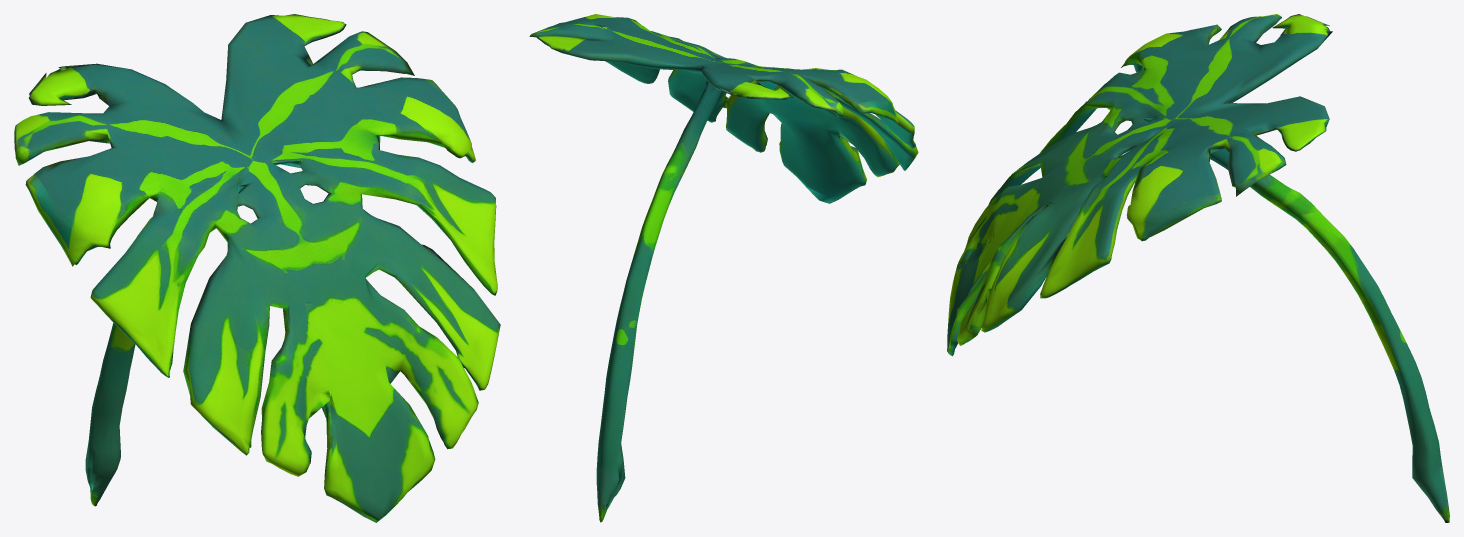
Rendered from mon_green_yellow_v1.glb.
3 renders of one model, left to right at view 1: azimuth 30°, elevation 25°; view 2: azimuth 150°, elevation 25°; view 3: azimuth 270°, elevation 25°, orthographic. The views are drawn at different scales.
Parts seen in each view (by area): view 1: world; view 2: world; view 3: world.
Boxes of the visible parts, x1,y1,x2,y2 form: world: (14,14,500,522); world: (529,14,918,522); world: (947,14,1449,522).
Size of the model in its own units: 1.68 by 1.98 by 2.
Materials: 1 (1 with a texture image).
